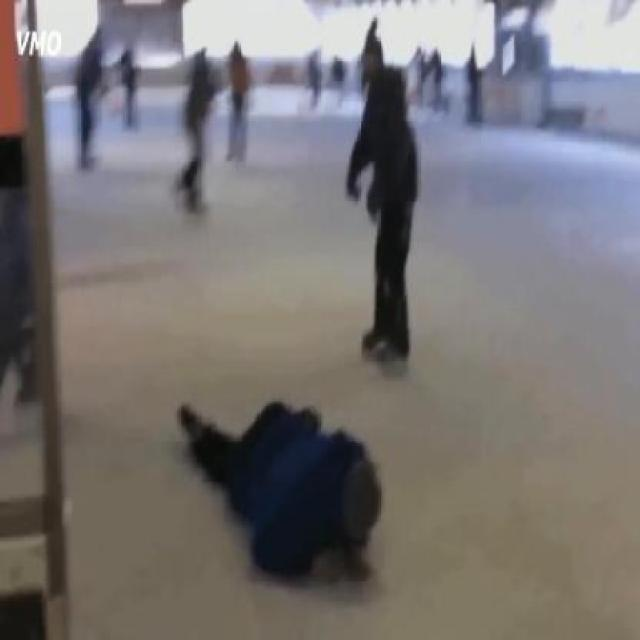fall: (174, 388, 386, 588)
